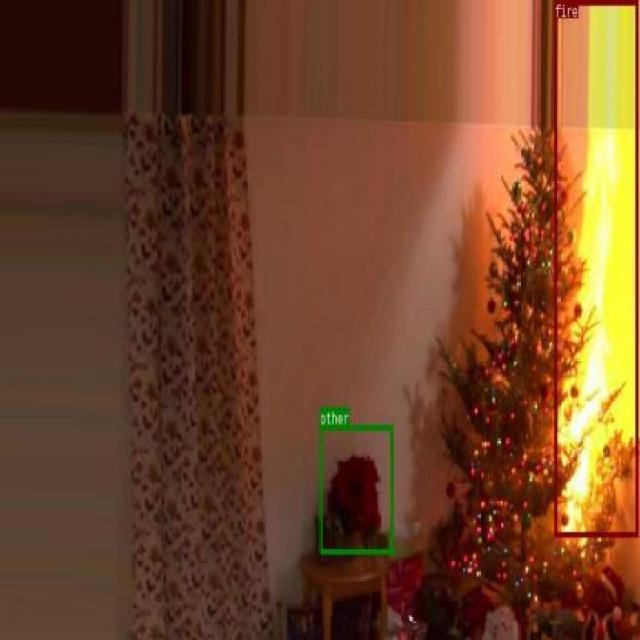Fire: (553, 0, 638, 535)
